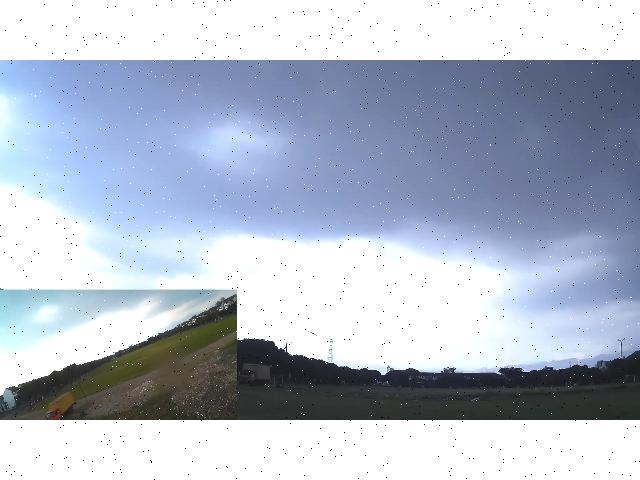Anti-Drone: (304, 326, 328, 343)
